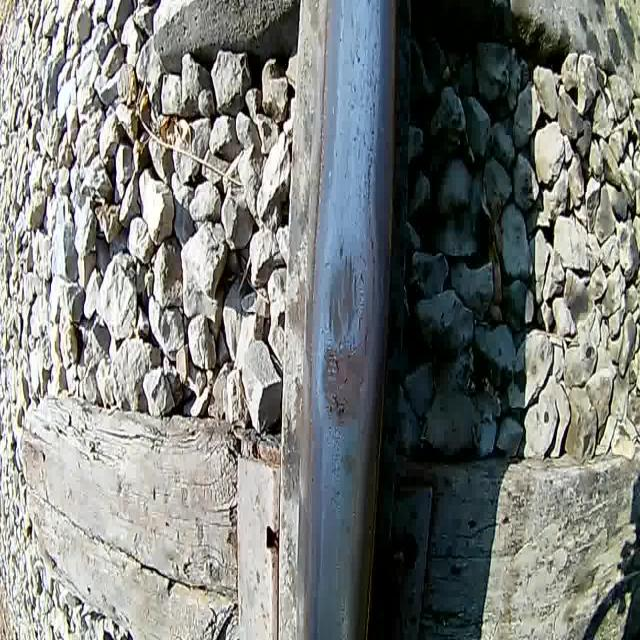Cracks: (362, 67, 382, 335)
Spallings: (326, 347, 352, 421)
Squats: (320, 236, 367, 350), (317, 339, 372, 435), (336, 439, 359, 484)
